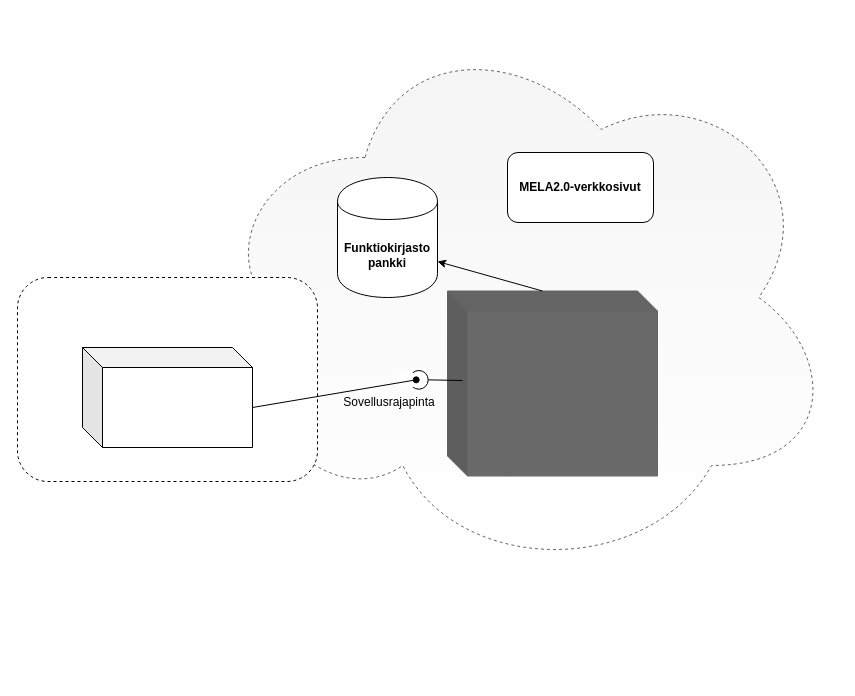
The diagram is 855 pixels wide and 696 high, and some of its shapes have lost their labels. The box of each missing label's shape, as (x1, y1, x2, y2) in pixels:
Käyttöliittymä: (82, 346, 252, 448)
MELA2.0: (446, 290, 658, 476)
